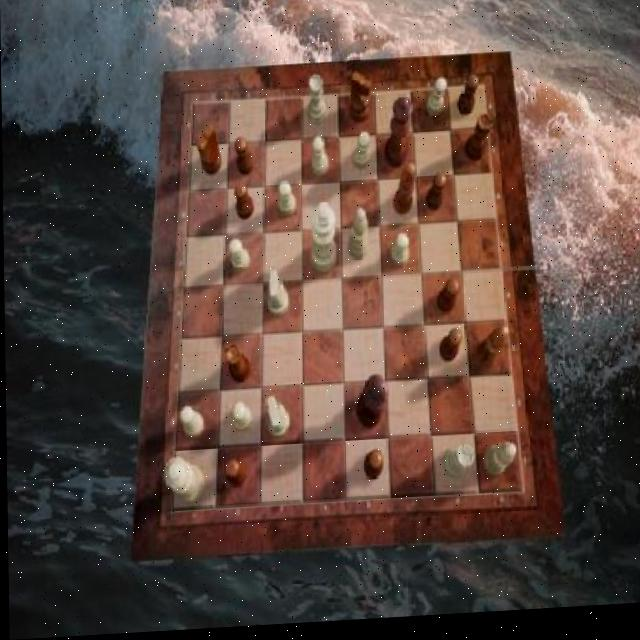bishop: (473, 332, 508, 375), (392, 169, 415, 222)
black-bishop: (353, 379, 387, 435)
black-king: (195, 128, 220, 178), (349, 76, 372, 128)
black-knight: (457, 81, 479, 122), (438, 334, 462, 369), (425, 178, 446, 217), (436, 284, 459, 319), (233, 187, 254, 224), (235, 139, 253, 178), (222, 461, 246, 490), (361, 454, 381, 483)
black-pawn: (381, 101, 411, 175)
black-queen: (462, 120, 491, 168), (223, 346, 249, 387)
black-rook: (481, 447, 515, 483), (346, 212, 368, 266)
white-bishop: (309, 205, 335, 277)
white-king: (266, 273, 289, 320), (265, 398, 288, 440)
white-knight: (425, 83, 446, 122), (179, 408, 202, 441), (227, 241, 248, 276), (309, 140, 327, 179), (388, 238, 408, 273), (352, 135, 370, 173), (277, 185, 295, 220), (230, 404, 250, 434)
white-pawn: (162, 459, 203, 508)
white-queen: (441, 449, 472, 484), (307, 78, 326, 130)
